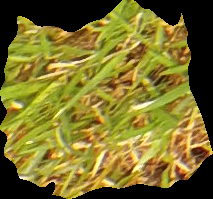grass: (1, 1, 212, 198)
